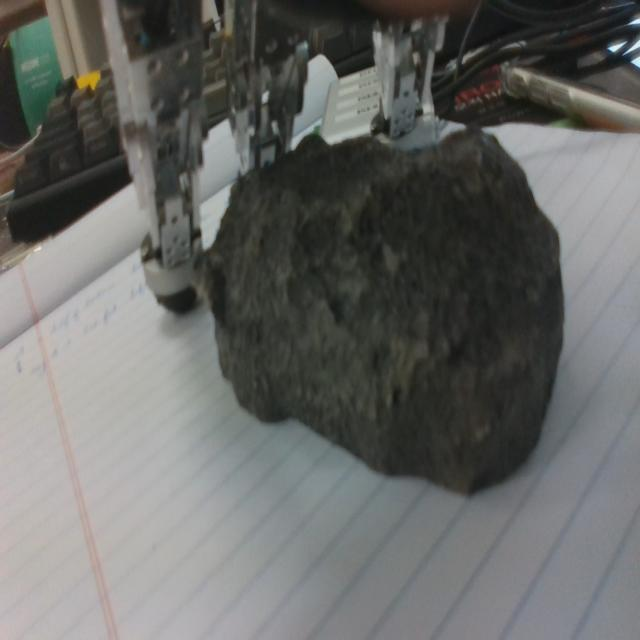stone: (184, 123, 566, 495)
